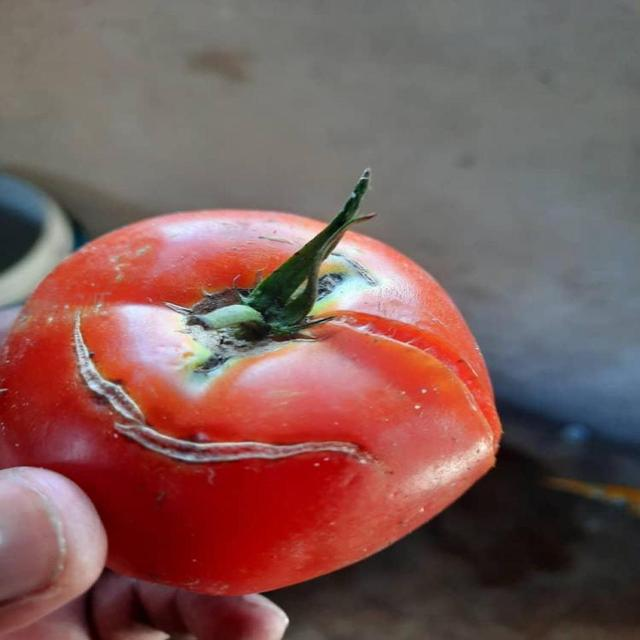Cracking Fruit: (33, 203, 260, 320)
